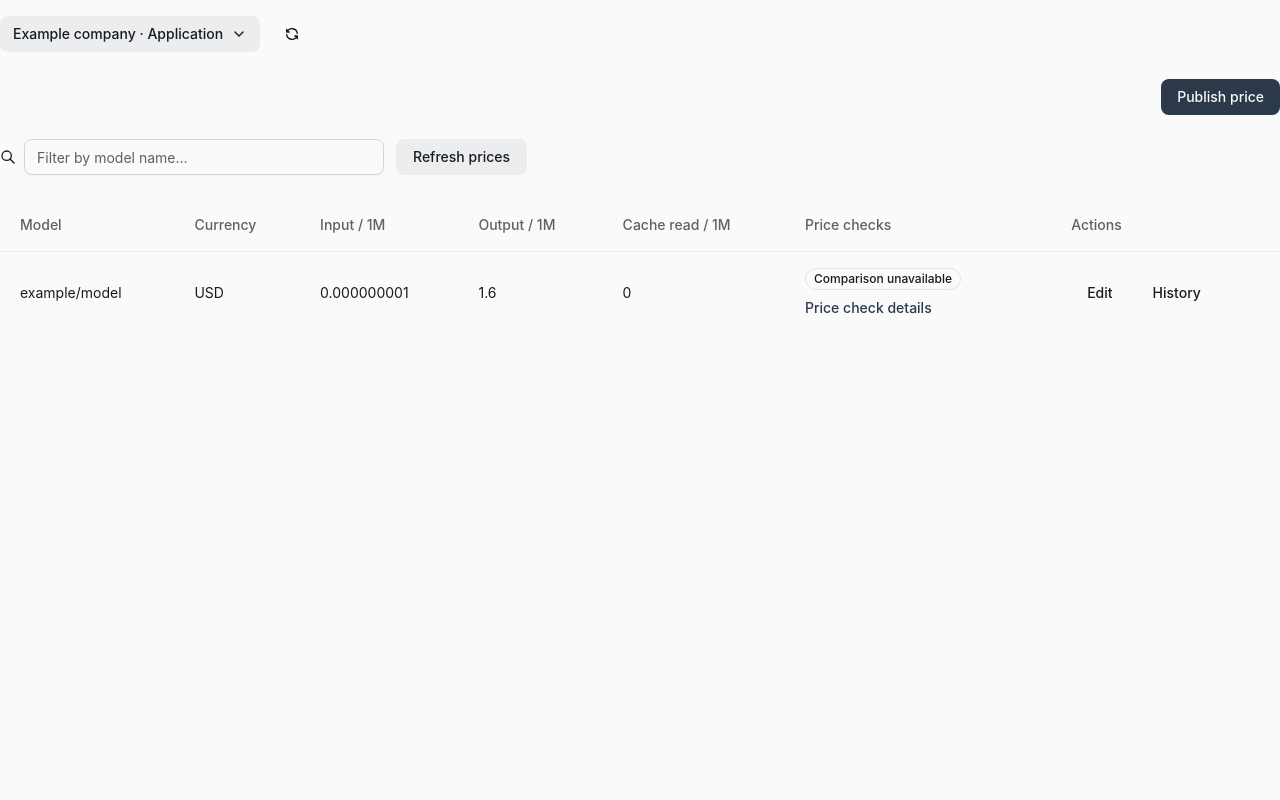
Scenario: platform customer price workflow › reads a committed price after a timeout before allowing another publication
Click the button with aria-label "Edit example/model" at [1100, 293], box [1071, 275, 1129, 311]
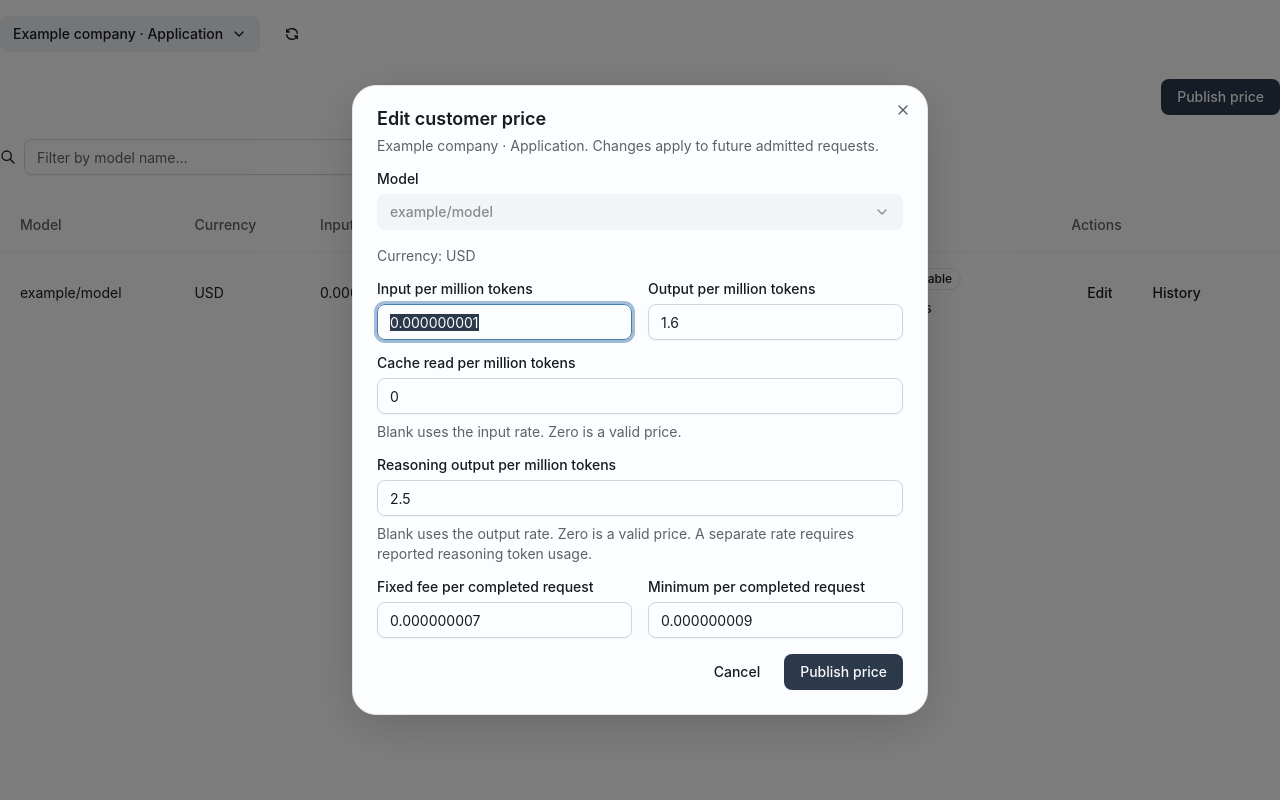
Click the button "Publish price" at [844, 672], box [784, 654, 903, 690]
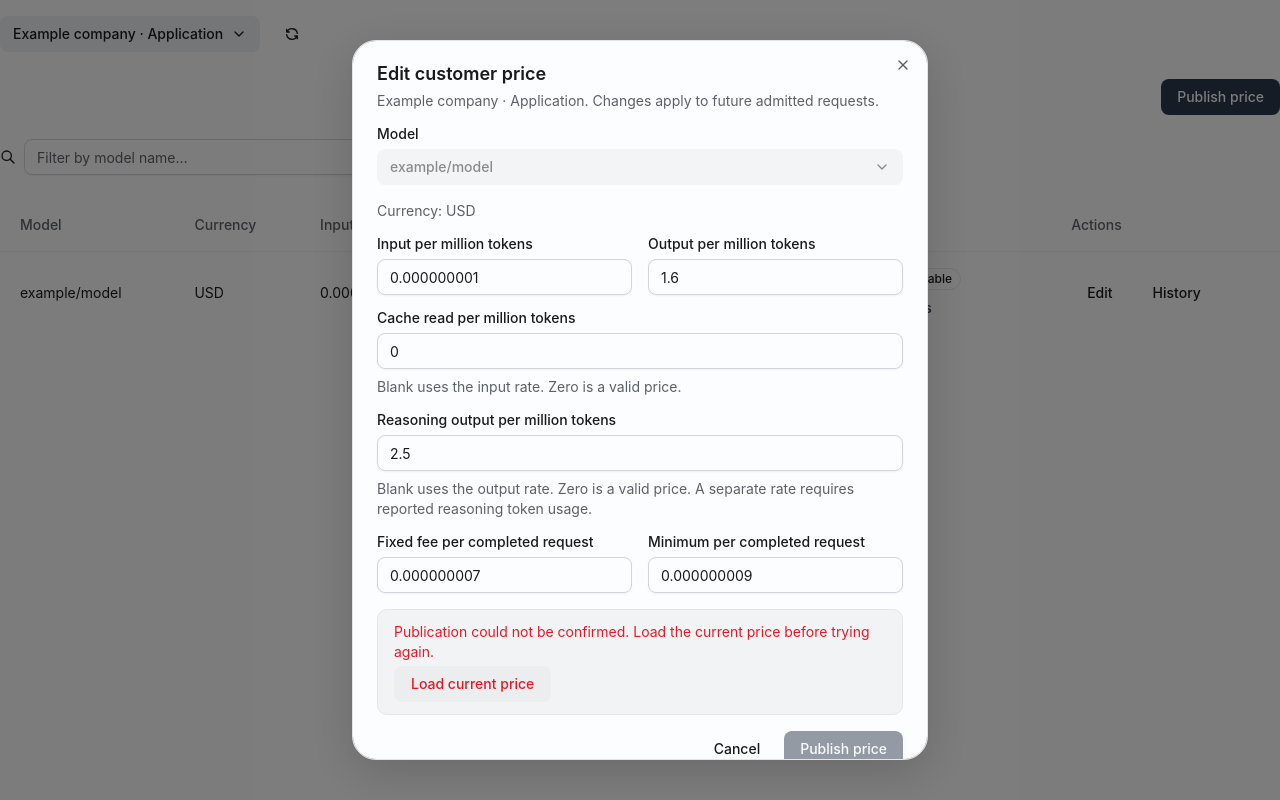
Now the text "Publication could not be confirmed. Load the current price before trying again." is shown, box [394, 623, 870, 660]
Now the button "Publish price" is disabled, box [784, 731, 903, 760]
Click the button "Load current price" at [473, 684], box [394, 666, 551, 702]
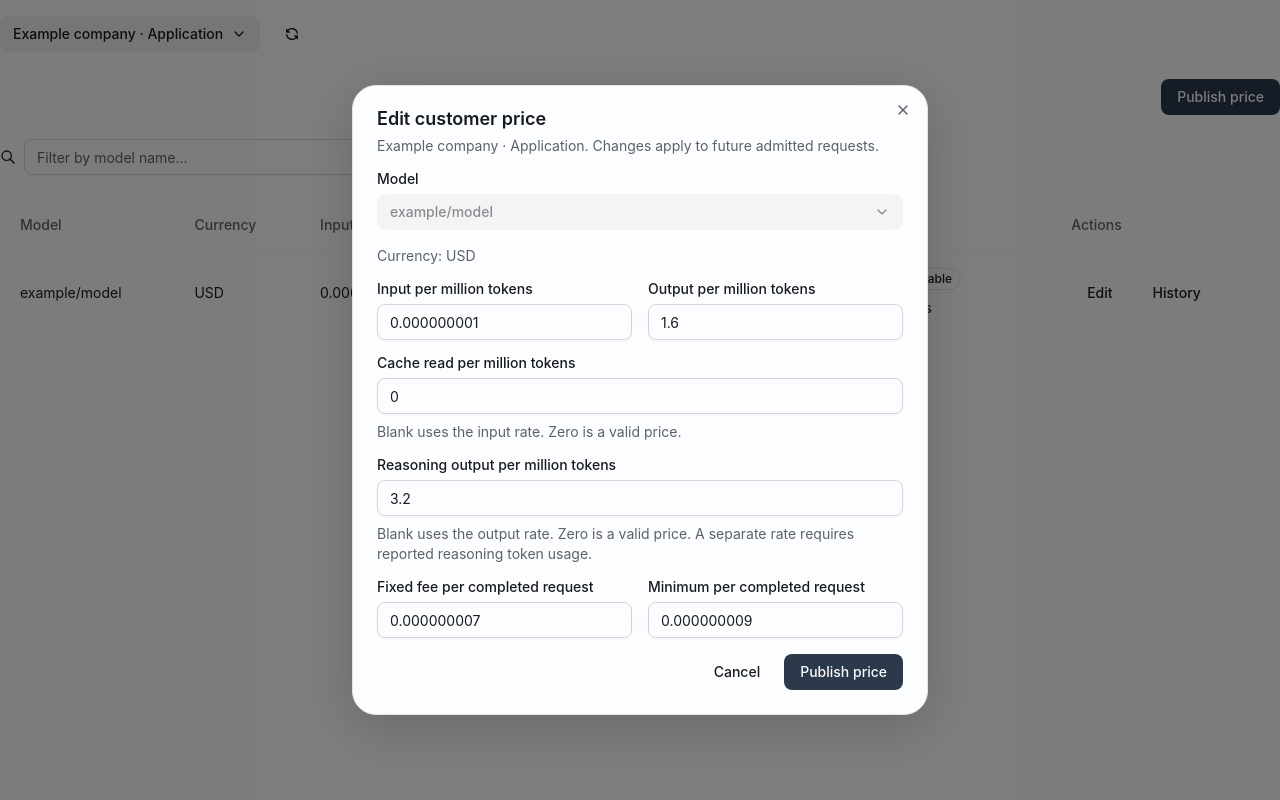
Now the button "Publish price" is enabled
Click the button "Publish price" at [844, 672], box [784, 654, 903, 690]
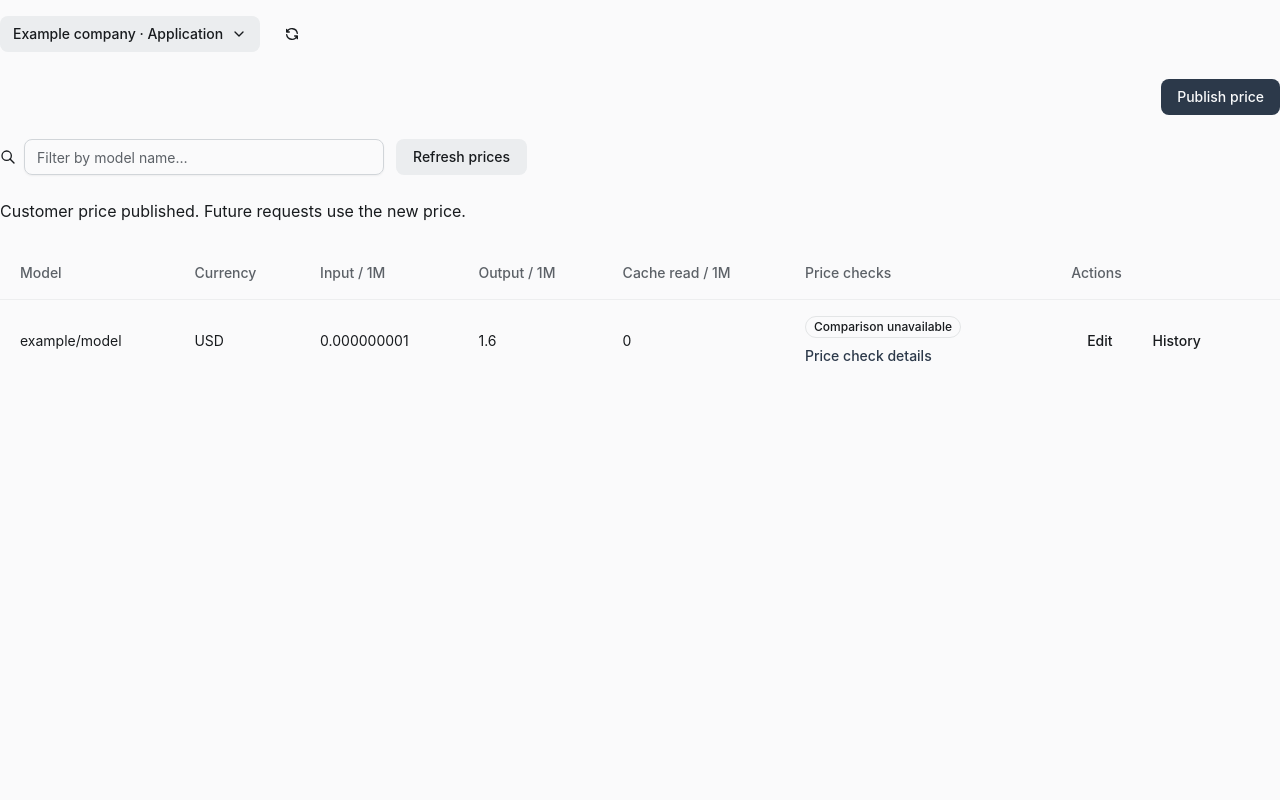
Now the text "Customer price published. Future requests use the new price." is shown, box [0, 201, 466, 221]
